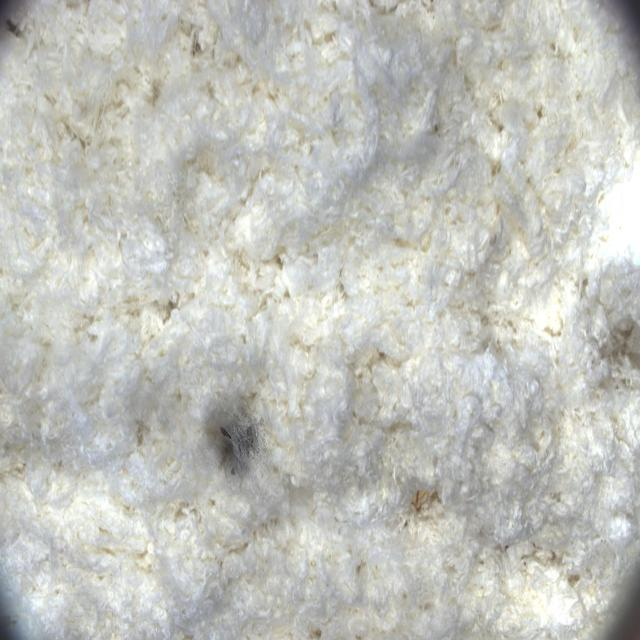dust: (157, 365, 298, 506)
